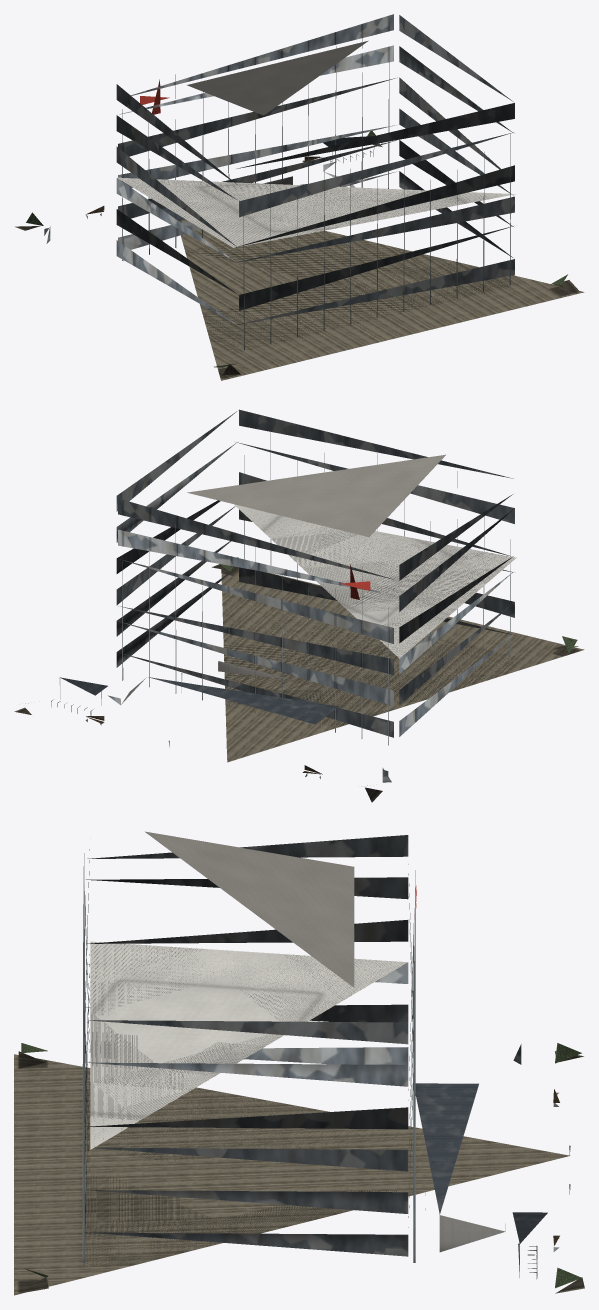
File: hospital_001.lod2.obj
3 renders of one model, top to bottom at view 1: azimuth 30°, elevation 25°; view 2: azimuth 150°, elevation 25°; view 3: azimuth 270°, elevation 25°, orthographic. The views are drawn at different scales.
Parts seen in each view (by area): view 1: hospital_001; view 2: hospital_001; view 3: hospital_001.
Part boxes in pixels (<box>): hospital_001: <box>15,14,584,380</box>; hospital_001: <box>14,409,584,802</box>; hospital_001: <box>14,831,584,1295</box>.
Bounding box in the file's own units: 43.8 × 24 × 43.8.
1 material, 1 textured.
